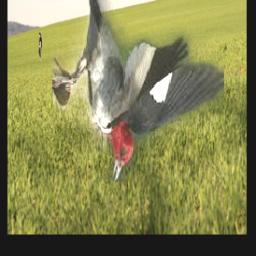Woodpecker: (52, 0, 224, 183)
